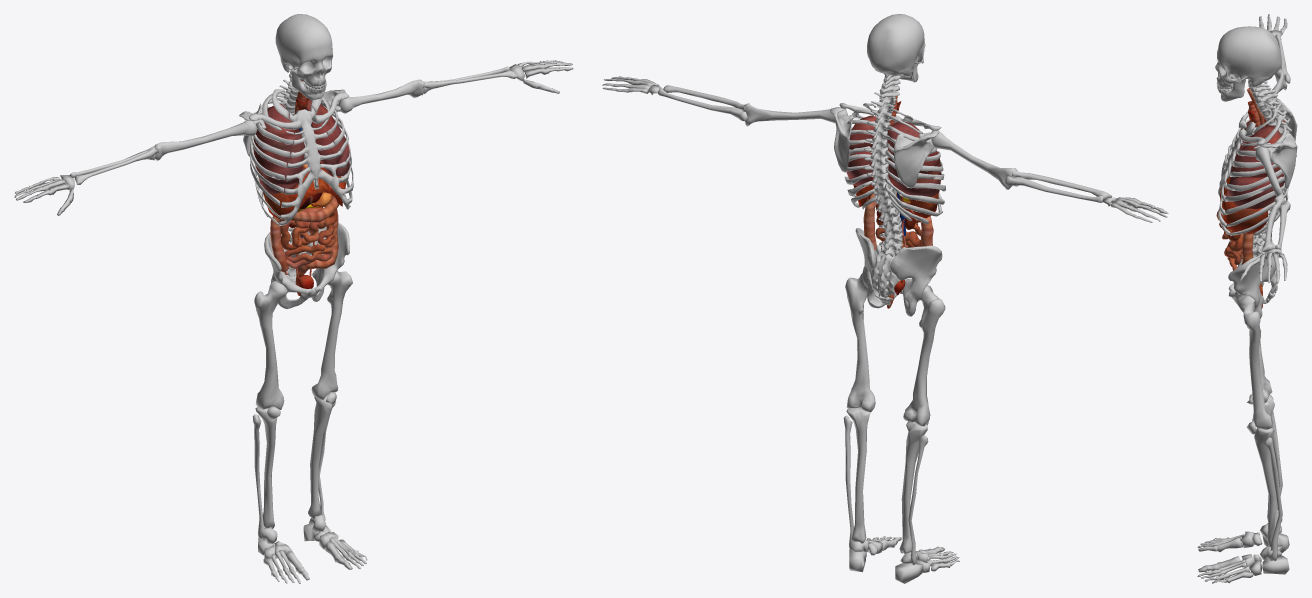
Rendered from skeleton.fbx.
3 views of the same model, side by side, from view 1: azimuth 30°, elevation 25°; view 2: azimuth 150°, elevation 25°; view 3: azimuth 270°, elevation 25° (orthographic). The views are drawn at different scales.
Visible parts, largest first — view 1: skelman:skeleton, skelman:lungs, skelman:stomach, skelman:largeIntestine, skelman:diaphragm; view 2: skelman:skeleton, skelman:lungs, skelman:largeIntestine; view 3: skelman:skeleton, skelman:lungs, skelman:diaphragm, skelman:stomach, skelman:largeIntestine.
Boxes of the visible parts, x1=… form: skelman:skeleton: x1=14, y1=14, x2=573, y2=583; skelman:lungs: x1=253, y1=92, x2=349, y2=193; skelman:stomach: x1=280, y1=79, x2=337, y2=268; skelman:largeIntestine: x1=270, y1=195, x2=338, y2=295; skelman:diaphragm: x1=263, y1=167, x2=346, y2=218; skelman:skeleton: x1=602, y1=14, x2=1168, y2=583; skelman:lungs: x1=846, y1=96, x2=941, y2=198; skelman:largeIntestine: x1=863, y1=193, x2=933, y2=308; skelman:skeleton: x1=1197, y1=14, x2=1297, y2=583; skelman:lungs: x1=1226, y1=101, x2=1287, y2=208; skelman:diaphragm: x1=1220, y1=177, x2=1267, y2=234; skelman:stomach: x1=1219, y1=88, x2=1265, y2=270; skelman:largeIntestine: x1=1216, y1=209, x2=1262, y2=308.
Bounding box in the file's own units: 289 × 268 × 45.49.
